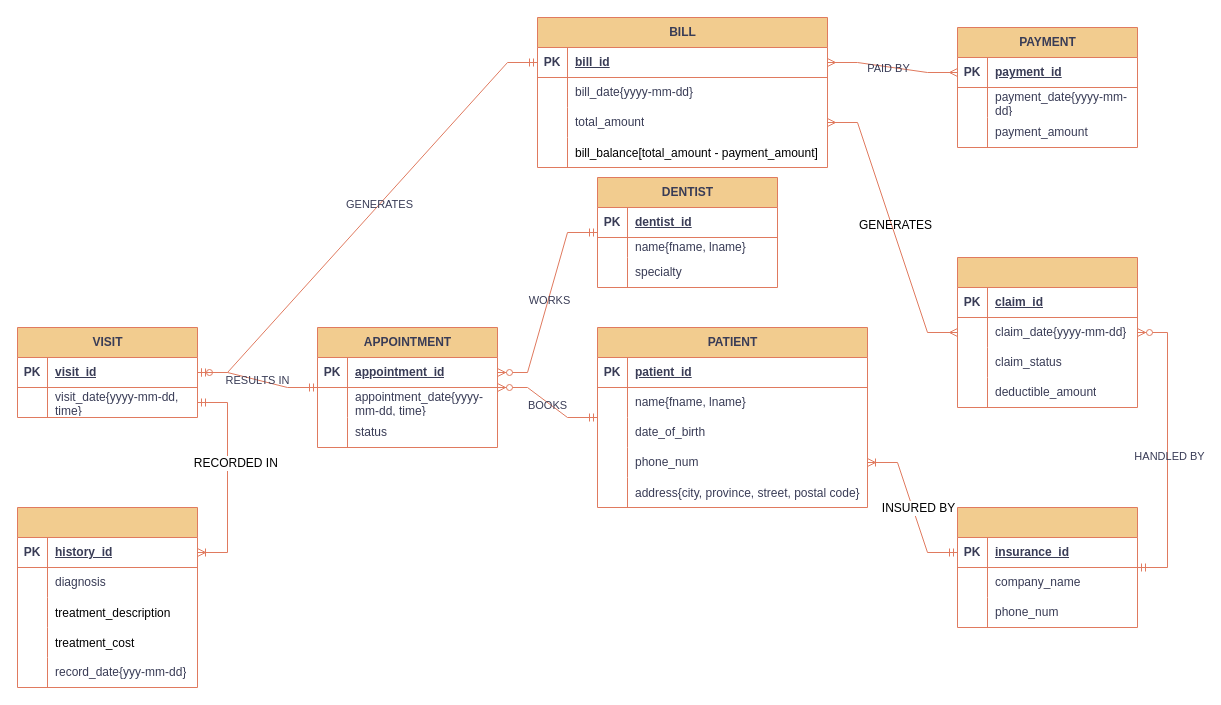
This 1221x705 diagram has some shape labels left out. The shapes that lost their labels are listed below. From the top down, each one's box as (x1, y1, x2, y2) in pixels, then its label:
(956, 256, 1138, 408): INSURANCE_CLAIM
(956, 506, 1138, 628): INSURANCE_COMPANY
(16, 506, 198, 688): MEDICAL_HISTORY
